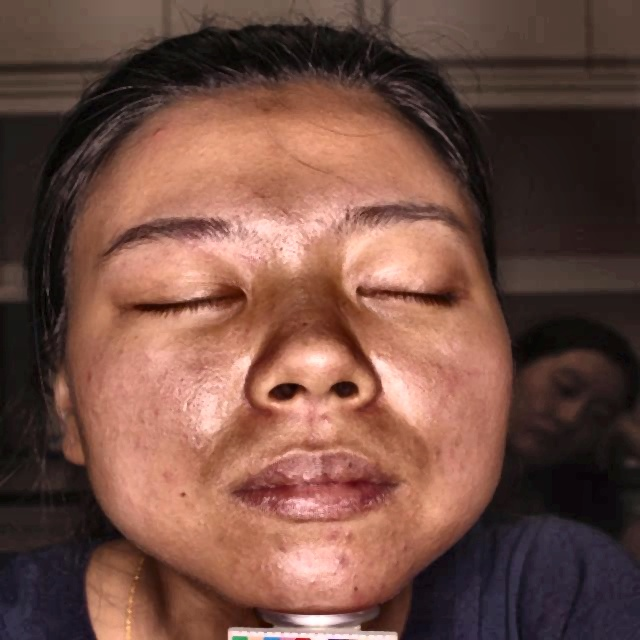comedone: (148, 120, 170, 144), (328, 553, 350, 571)
